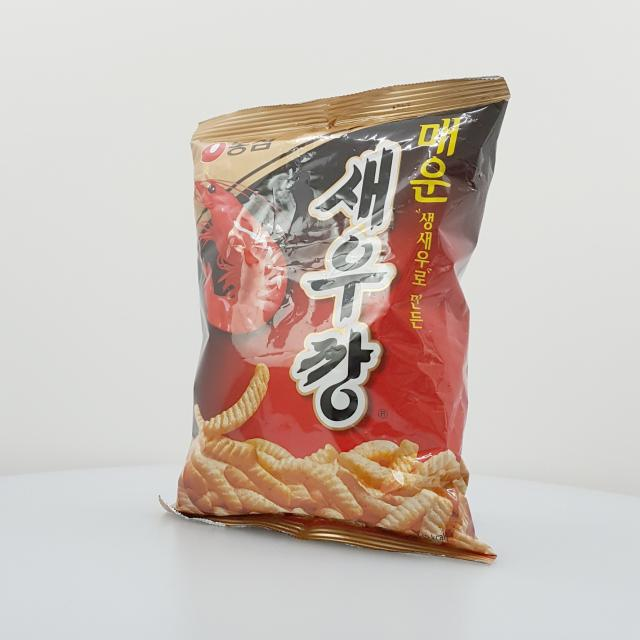-90G: (159, 76, 512, 566)
